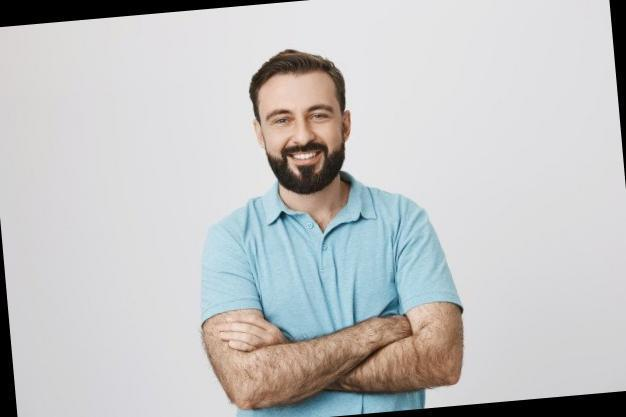Sober: (265, 80, 343, 179)
